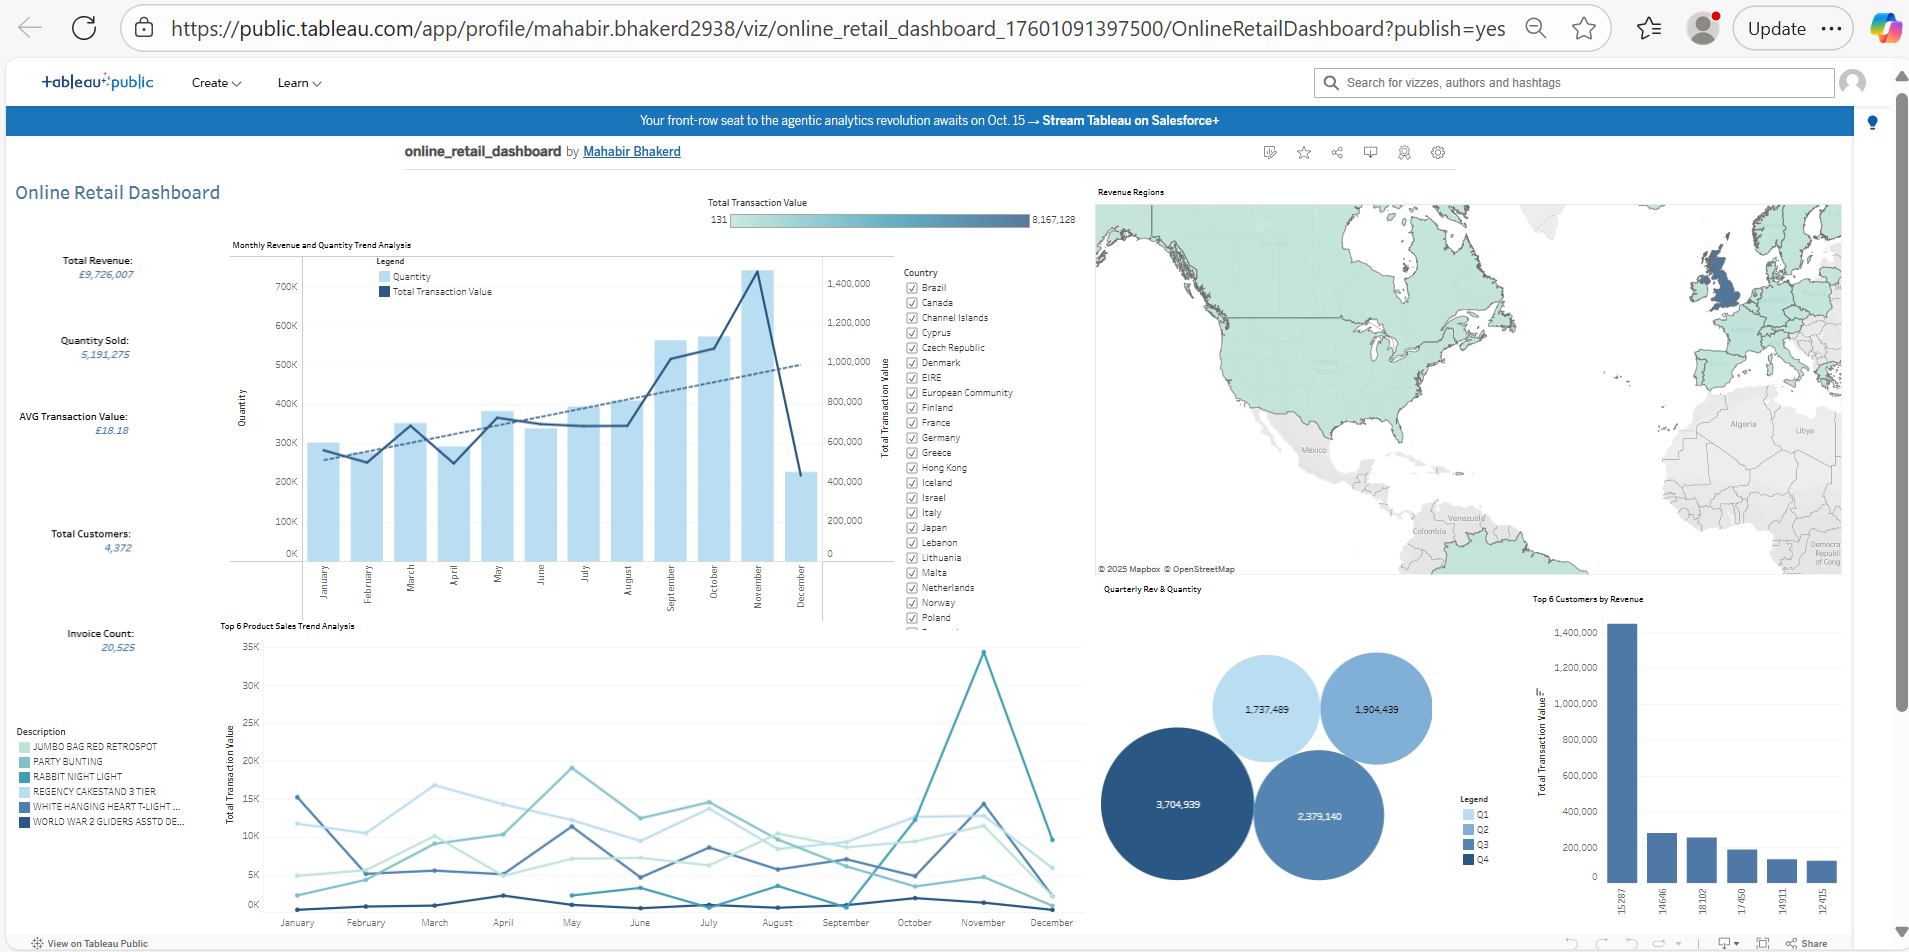

The page's visual inventory and layout, read from the dashboard file:
{"tool":"tableau","page":{"name":"Online Retail Dashboard","canvas":[1000,1000],"units":"permille","ordinal":0},"visuals":[{"type":"title","box":[5,10.7,990,77.7]},{"type":"worksheet","title":"Revenue Regions","mark":"Automatic","box":[589.8,14.8,404.6,516.1]},{"type":"legend","title":"Revenue Regions","param":"[federated.1ljgoix0deh2p11gjaojv0v66wmp].[sum:Total_Transaction_Value:qk]","box":[380.3,33.5,200.8,87.1]},{"type":"worksheet","title":"Total Revenue","mark":"Automatic","box":[9.3,73.7,100.4,214.5]},{"type":"worksheet","title":"Monthly Revenue and Quantity Trend Analysis","mark":"Automatic","rows":["Quantity","Total_Transaction_Value"],"cols":["InvoiceDate"],"box":[121,83.1,360.4,508]},{"type":"legend","title":"Monthly Revenue and Quantity Trend Analysis","param":"[federated.1ljgoix0deh2p11gjaojv0v66wmp].[:Measure Names]","box":[200.8,111.3,154.6,105.9]},{"type":"filter","title":"Revenue Regions","param":"[federated.1ljgoix0deh2p11gjaojv0v66wmp].[none:Country:nk]","box":[486.3,126,99.8,475.9]},{"type":"worksheet","title":"Total Quantity","mark":"Automatic","box":[4.4,189,105.4,178.3]},{"type":"worksheet","title":"AVG Transaction Value","mark":"Automatic","box":[6.9,277.5,97.3,201.1]},{"type":"worksheet","title":"Total Customers","mark":"Automatic","box":[7.5,450.4,101,146.1]},{"type":"worksheet","title":"Quarterly Rev & Quantity","mark":"Circle","box":[592.9,534.9,387.8,462.5]},{"type":"worksheet","title":"Top 6 Customers by Revenue","mark":"Bar","rows":["Total_Transaction_Value"],"cols":["CustomerID"],"box":[825.4,548.3,169,445]},{"type":"worksheet","title":"Top 6 Product Sales Trend Analysis","mark":"Line","rows":["Total_Transaction_Value"],"cols":["InvoiceDate"],"box":[114.7,583.1,470.1,410.2]},{"type":"worksheet","title":"Invoice Count","mark":"Automatic","box":[6.2,587.1,103.5,124.7]},{"type":"legend","title":"Top 6 Product Sales Trend Analysis","param":"[federated.1ljgoix0deh2p11gjaojv0v66wmp].[none:Description:nk]","box":[5.6,726.5,92.3,258.7]},{"type":"legend","title":"Quarterly Rev & Quantity","param":"[federated.1ljgoix0deh2p11gjaojv0v66wmp].[qr:InvoiceDate:ok]","box":[787.4,815,87.3,168.9]}]}

Visuals, with their boxes on the dashboard's canvas, which has no fixed pixel size, in thousandths of its width and height (x1, y1, x2, y2). These are canvas units, not pixel positions in the 1909x952 screenshot, which may show the page scaled, cropped or inside an application window:
title: <region>5, 11, 995, 88</region>
"Revenue Regions" worksheet: <region>590, 15, 994, 531</region>
"Revenue Regions" legend: <region>380, 34, 581, 121</region>
"Total Revenue" worksheet: <region>9, 74, 110, 288</region>
"Monthly Revenue and Quantity Trend Analysis" worksheet: <region>121, 83, 481, 591</region>
"Monthly Revenue and Quantity Trend Analysis" legend: <region>201, 111, 355, 217</region>
"Revenue Regions" filter: <region>486, 126, 586, 602</region>
"Total Quantity" worksheet: <region>4, 189, 110, 367</region>
"AVG Transaction Value" worksheet: <region>7, 278, 104, 479</region>
"Total Customers" worksheet: <region>8, 450, 108, 596</region>
"Quarterly Rev & Quantity" worksheet (Circle marks): <region>593, 535, 981, 997</region>
"Top 6 Customers by Revenue" worksheet (Bar marks): <region>825, 548, 994, 993</region>
"Top 6 Product Sales Trend Analysis" worksheet (Line marks): <region>115, 583, 585, 993</region>
"Invoice Count" worksheet: <region>6, 587, 110, 712</region>
"Top 6 Product Sales Trend Analysis" legend: <region>6, 726, 98, 985</region>
"Quarterly Rev & Quantity" legend: <region>787, 815, 875, 984</region>
